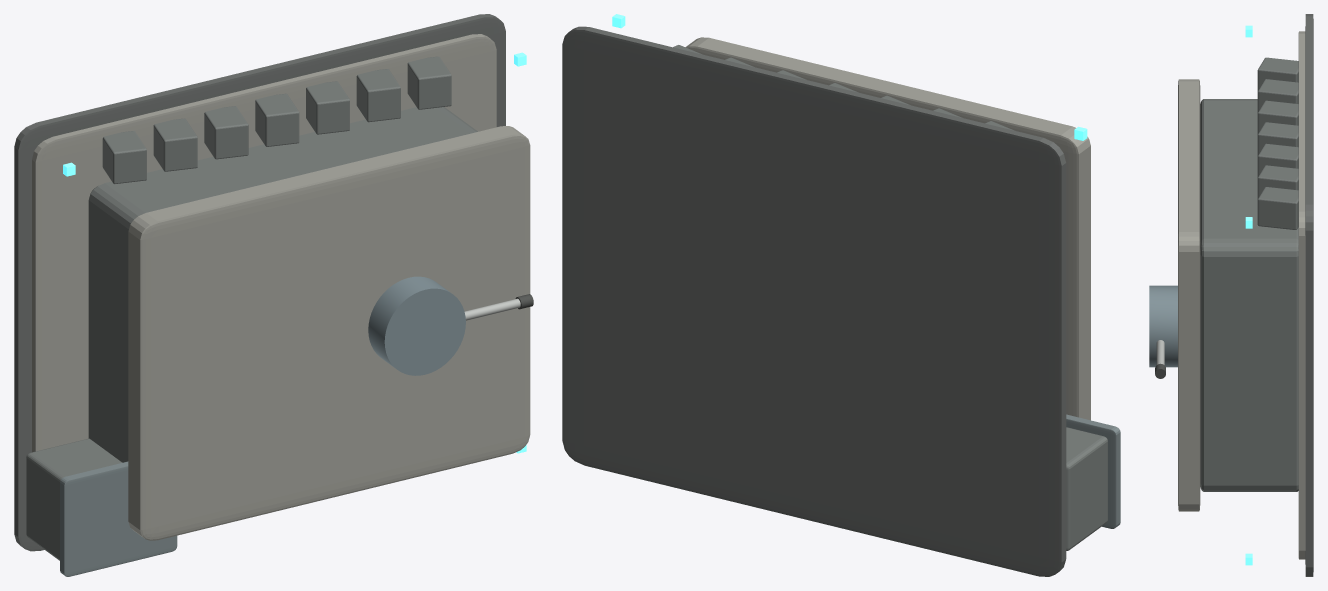
Rendered from b-35-bunker-lod1.glb.
The picture shows the model from 3 angles, left to right: view 1: azimuth 30°, elevation 25°; view 2: azimuth 150°, elevation 25°; view 3: azimuth 270°, elevation 25°; orthographic projection. The views are drawn at different scales.
Parts seen in each view (by area): view 1: bunker_roof, foundation_inner_pad, bunker_main, foundation, checkpoint_roof, small_turret, checkpoint_main_hall, dragon_tooth_0, dragon_tooth_-2, dragon_tooth_-1, dragon_tooth_3, dragon_tooth_2 (+2 smaller); view 2: foundation, bunker_roof, checkpoint_main_hall, checkpoint_roof; view 3: bunker_main, bunker_roof, foundation, foundation_inner_pad, small_turret, dragon_tooth_3, dragon_tooth_-3, dragon_tooth_-1, dragon_tooth_1, dragon_tooth_2, dragon_tooth_-2, dragon_tooth_0.
Boxes of the visible parts, x1,y1,x2,y2 form: bunker_roof: [128, 126, 530, 540]; foundation_inner_pad: [32, 34, 496, 452]; bunker_main: [88, 107, 477, 462]; foundation: [14, 14, 505, 551]; checkpoint_roof: [60, 461, 177, 576]; small_turret: [368, 276, 465, 375]; checkpoint_main_hall: [26, 438, 122, 560]; dragon_tooth_0: [255, 93, 299, 146]; dragon_tooth_-2: [153, 118, 197, 171]; dragon_tooth_-1: [204, 106, 248, 159]; dragon_tooth_3: [407, 56, 451, 109]; dragon_tooth_2: [356, 69, 400, 122]; foundation: [562, 26, 1066, 576]; bunker_roof: [685, 37, 1090, 420]; checkpoint_main_hall: [1066, 427, 1107, 550]; checkpoint_roof: [1066, 414, 1120, 528]; bunker_main: [1200, 99, 1298, 491]; bunker_roof: [1178, 79, 1200, 511]; foundation: [1305, 14, 1313, 576]; foundation_inner_pad: [1298, 31, 1305, 559]; small_turret: [1149, 285, 1177, 367]; dragon_tooth_3: [1257, 187, 1298, 229]; dragon_tooth_-3: [1257, 57, 1298, 90]; dragon_tooth_-1: [1257, 100, 1298, 134]; dragon_tooth_1: [1257, 143, 1298, 177]; dragon_tooth_2: [1257, 165, 1298, 198]; dragon_tooth_-2: [1257, 79, 1298, 112]; dragon_tooth_0: [1257, 122, 1298, 155].
Size of what is drawn, in the model's own units: 12.09 by 10 by 4.03.
